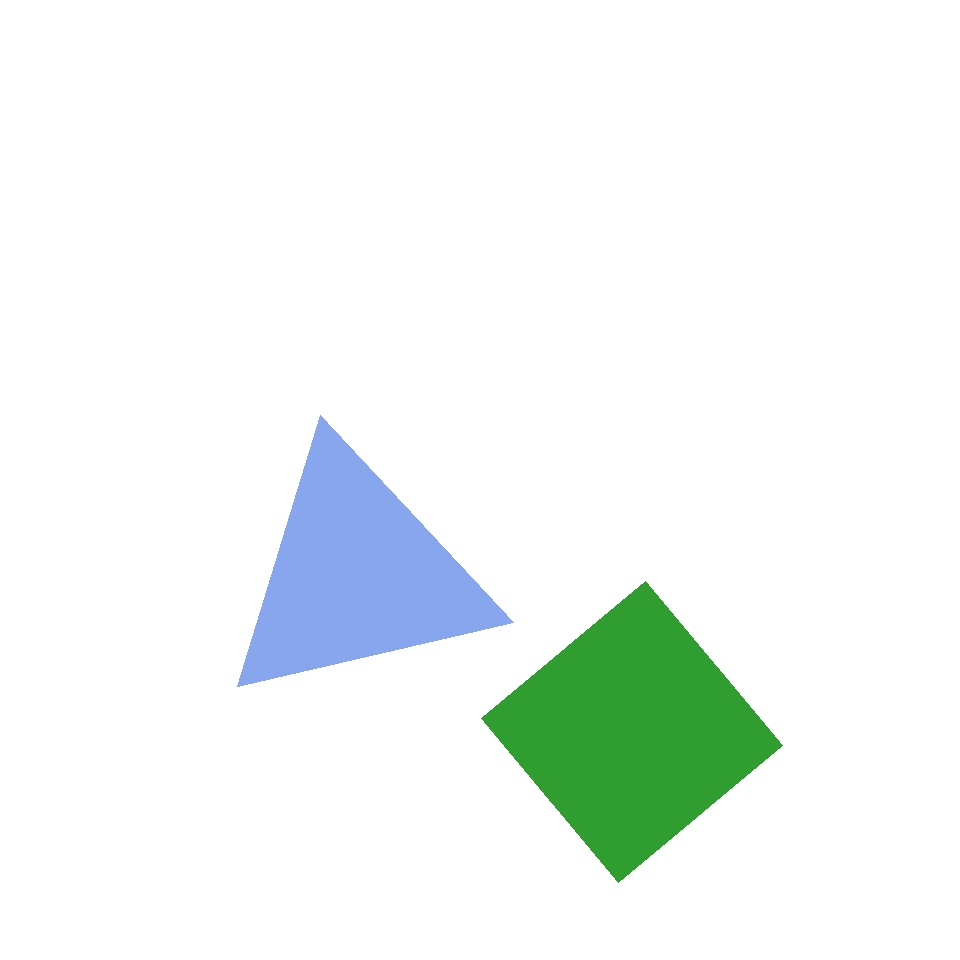circle: (219, 440, 495, 710), (591, 192, 809, 390)
square: (482, 582, 782, 882)
triangle: (501, 192, 860, 550), (249, 114, 552, 416)
